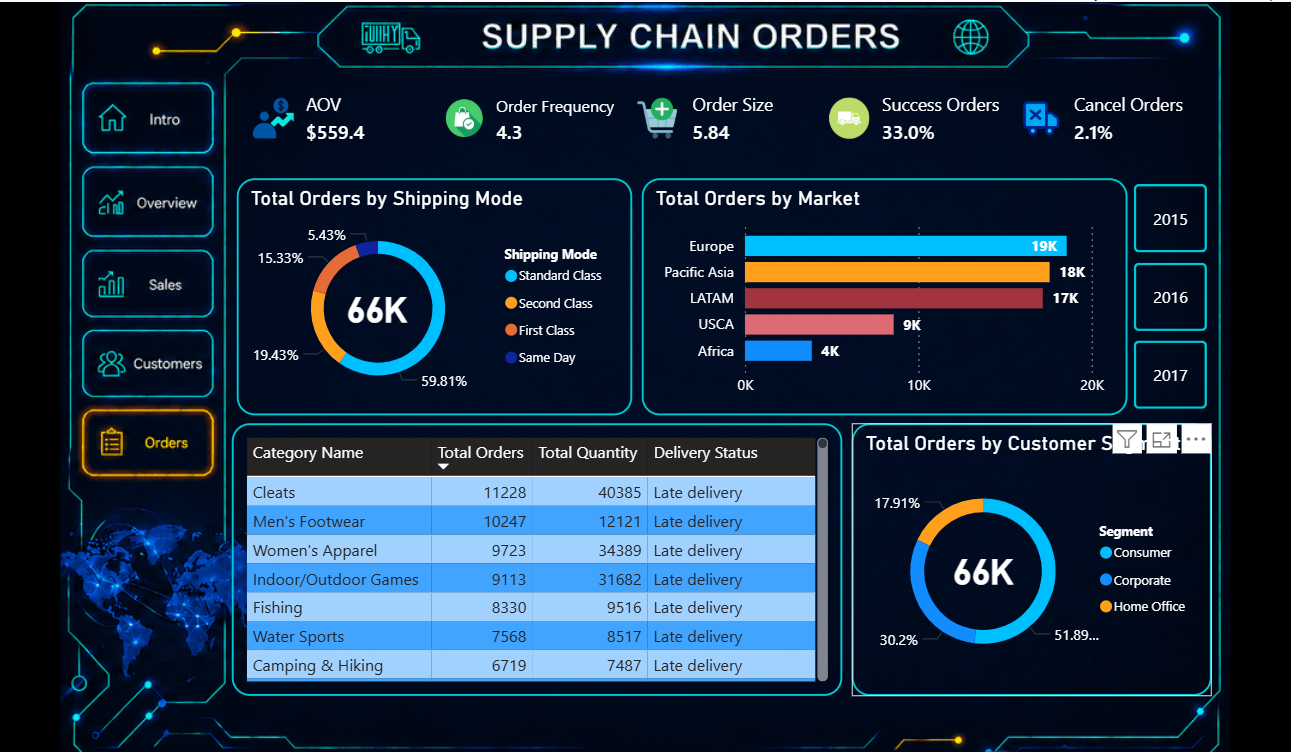

What the dashboard file says about the page in this screenshot:
{"tool":"powerbi","page":{"name":"Orders","canvas":[1080,630],"ordinal":4},"visuals":[{"type":"actionButton","box":[75.4,70.5,100.2,52.6],"z":0},{"type":"actionButton","box":[76.4,139.9,100.2,52.6],"z":1000},{"type":"actionButton","box":[74.4,207.4,100.2,52.6],"z":2000},{"type":"actionButton","box":[74.4,273.9,100.2,52.6],"z":3000},{"type":"cardVisual","fields":{"Data":["measures (2).Average Order Value","measures (2).Orders Per Customer","measures (2).Avg Items Per Order","measures (2).Delivery Success","measures (2).Cancel Orders"]},"box":[193.5,55.6,819.8,83.4],"z":4000},{"type":"tableEx","fields":{"Values":["Dim product.Category Name","measures (2).Total Orders","measures (2).Total Quantity","Dim Delivery status.Delivery Status"]},"box":[194.5,351.3,509.1,227.3],"z":5000},{"type":"clusteredBarChart","fields":{"Y":["measures (2).Total Orders"],"Category":["Dim Geography.Market"]},"box":[536.9,146.9,404.9,197.5],"z":6000},{"type":"donutChart","fields":{"Y":["measures (2).Total Orders"],"Category":["Dim customer.Customer Segment"]},"box":[711.6,351.3,299.7,227.3],"z":7000},{"type":"donutChart","fields":{"Category":["Dim shiping mode.Shipping Mode"],"Y":["measures (2).Total Orders"]},"box":[198.5,146.9,329.5,197.5],"z":9000},{"type":"advancedSlicerVisual","fields":{"Values":["DimDate.Year"]},"box":[941.8,146.9,71.5,197.5],"z":10000},{"type":"card","fields":{"Values":["measures (2).Total Orders"]},"box":[768.2,428.7,106.2,88.3],"z":11000},{"type":"card","fields":{"Values":["measures (2).Total Orders"]},"box":[262,210.4,106.2,88.3],"z":12000}]}

Visuals, with their boxes in screenshot pixels (x1, y1, x2, y2), scaled from the page's 1080x630 canvas onto the 1291x752 screenshot:
actionButton: <bbox>90, 84, 210, 147</bbox>
actionButton: <bbox>91, 167, 211, 230</bbox>
actionButton: <bbox>89, 248, 209, 310</bbox>
actionButton: <bbox>89, 327, 209, 390</bbox>
cardVisual - measures (2).Average Order Value x measures (2).Orders Per Customer: <bbox>231, 66, 1211, 166</bbox>
tableEx - Dim product.Category Name x measures (2).Total Orders: <bbox>232, 419, 841, 691</bbox>
clusteredBarChart - measures (2).Total Orders x Dim Geography.Market: <bbox>642, 175, 1126, 411</bbox>
donutChart - measures (2).Total Orders x Dim customer.Customer Segment: <bbox>851, 419, 1209, 691</bbox>
donutChart - Dim shiping mode.Shipping Mode x measures (2).Total Orders: <bbox>237, 175, 631, 411</bbox>
advancedSlicerVisual - DimDate.Year: <bbox>1126, 175, 1211, 411</bbox>
card - measures (2).Total Orders: <bbox>918, 512, 1045, 617</bbox>
card - measures (2).Total Orders: <bbox>313, 251, 440, 357</bbox>
